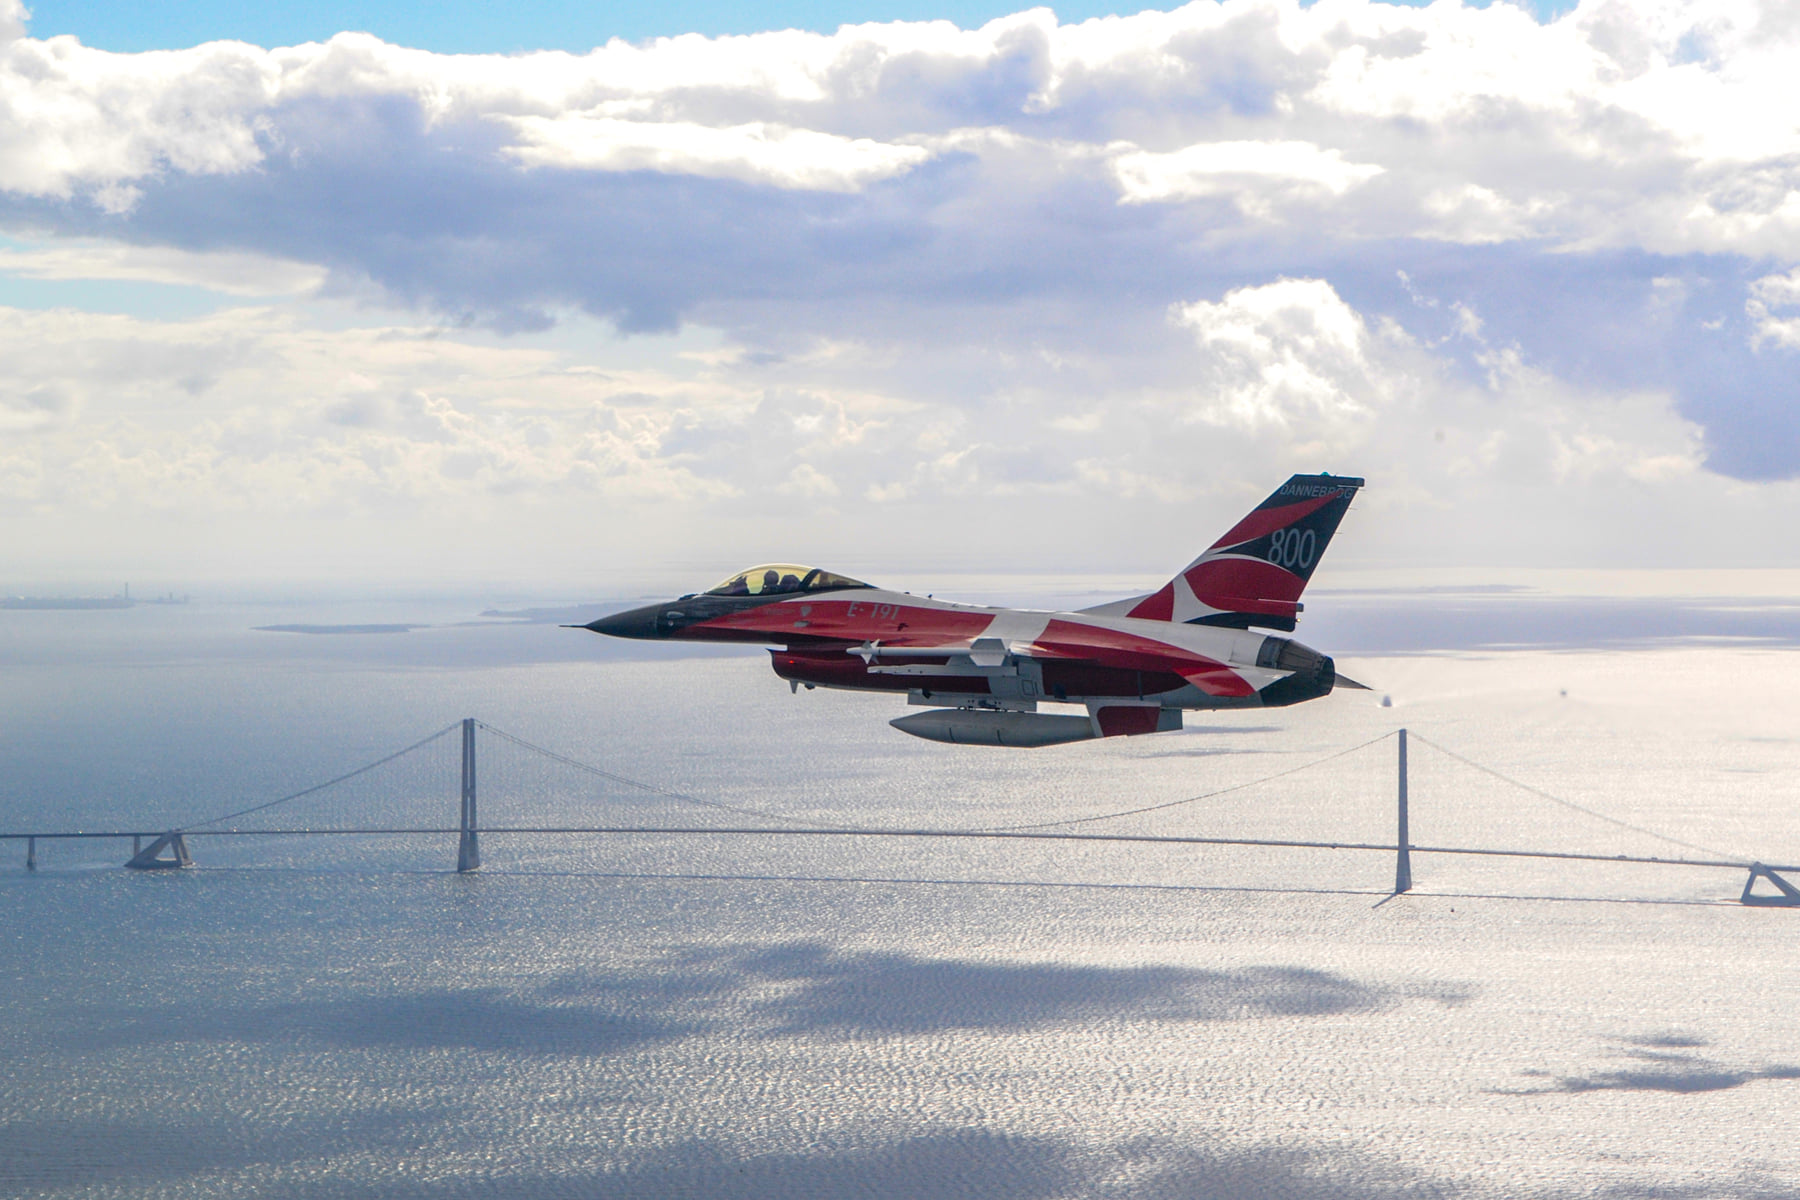airplane: (558, 471, 1385, 749)
